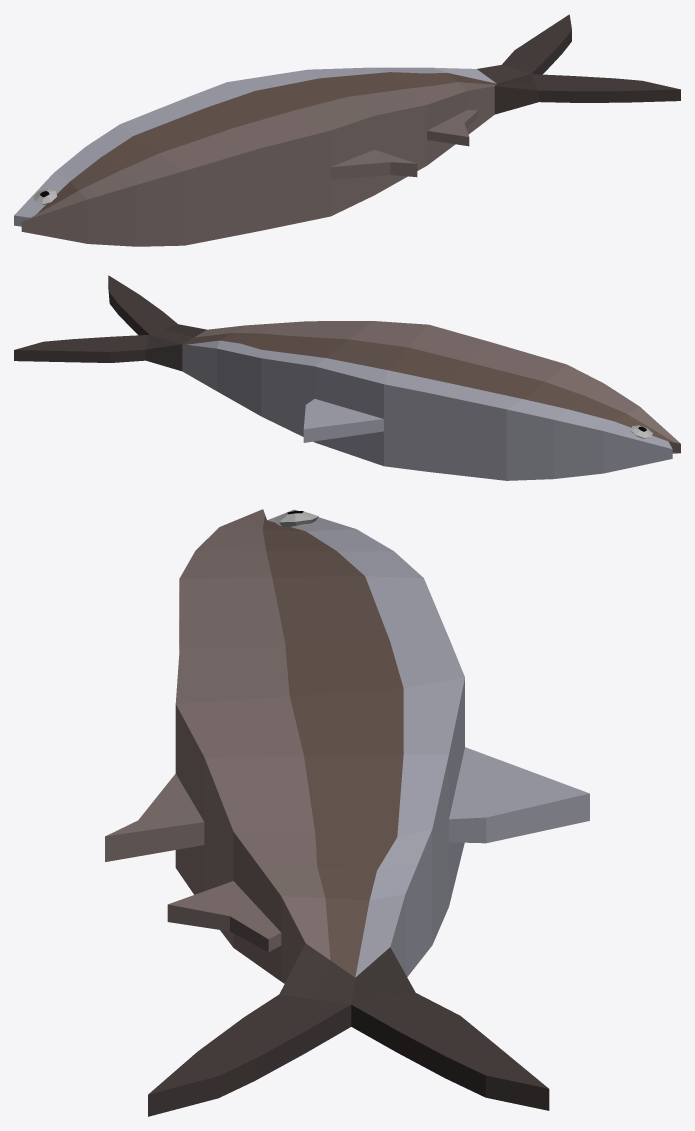
Rendered from Bangus.fbx.
3 views of the same model, one above another, from view 1: azimuth 30°, elevation 25°; view 2: azimuth 150°, elevation 25°; view 3: azimuth 270°, elevation 25° (orthographic). The views are drawn at different scales.
Visible parts, largest first — view 1: Bangus; view 2: Bangus; view 3: Bangus.
Boxes of the visible parts, box(x1,y1,x2,y2) form: Bangus: box(14, 14, 680, 246); Bangus: box(14, 275, 680, 480); Bangus: box(105, 509, 589, 1116).
Size of the model in its own units: 148 by 19.31 by 51.72.
